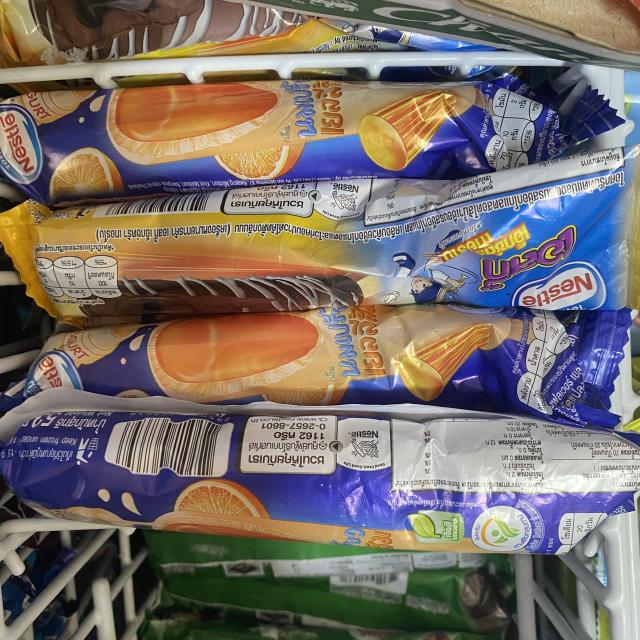plastik: (0, 145, 640, 325), (0, 389, 640, 554), (0, 80, 625, 204), (24, 305, 636, 428)
